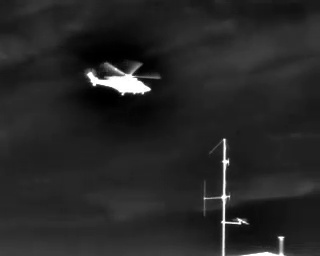HELICOPTER: (81, 53, 165, 104)
